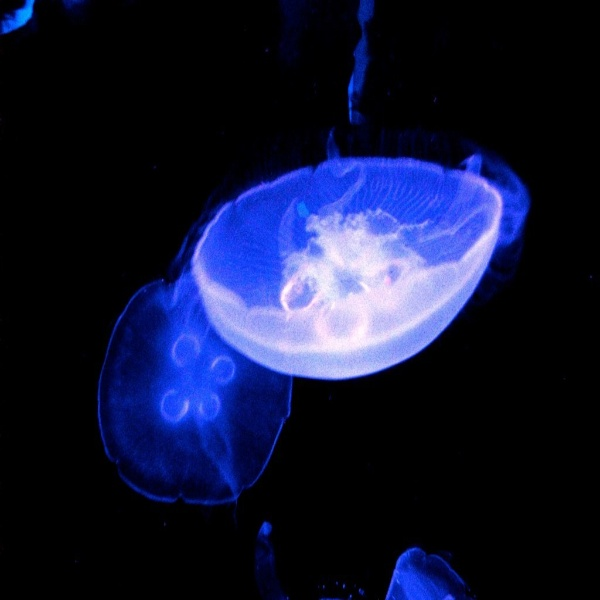Jellyfish: (0, 0, 531, 600)
